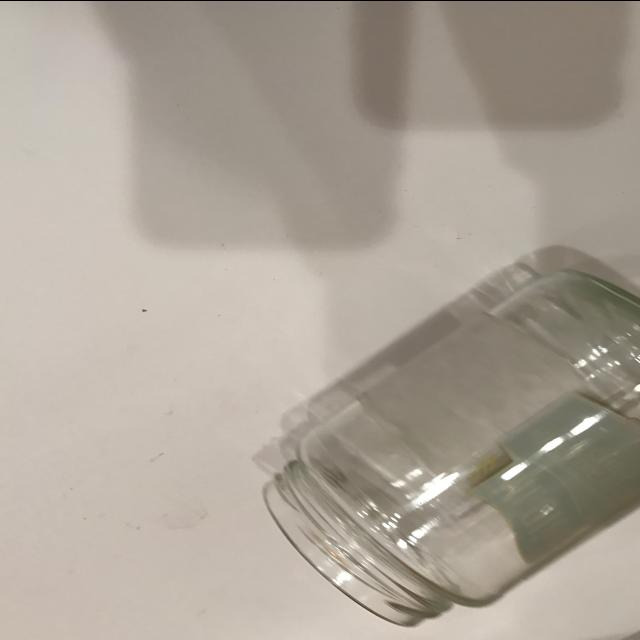glass: (237, 236, 640, 628)
